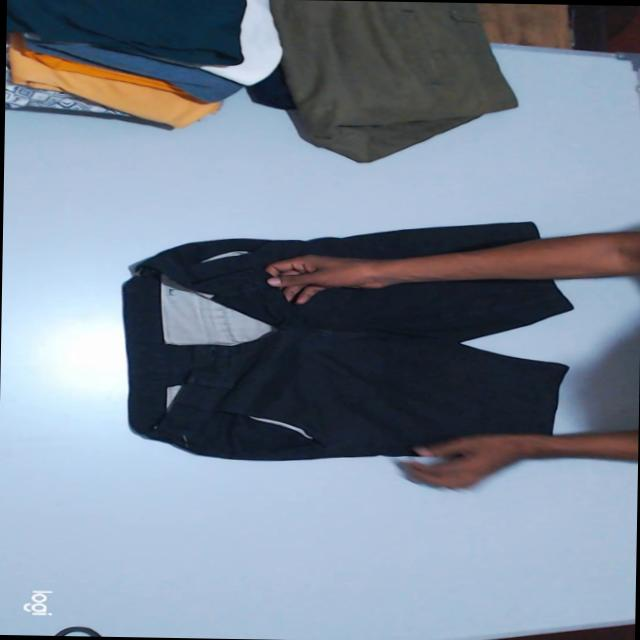new-garment: (122, 222, 571, 460)
